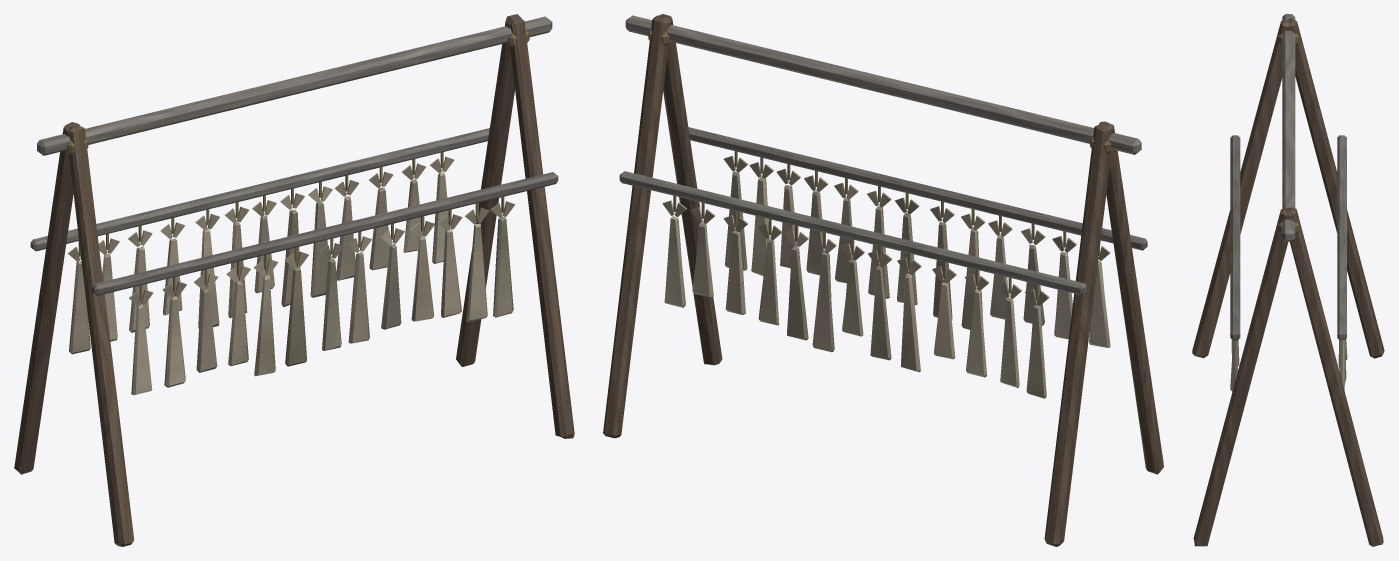
File: kit_drying_rack.glb
3 renders of one model, left to right at view 1: azimuth 30°, elevation 25°; view 2: azimuth 150°, elevation 25°; view 3: azimuth 270°, elevation 25°, orthographic. The views are drawn at different scales.
Parts seen in each view (by area): view 1: kit_drying_rack-convcol; view 2: kit_drying_rack-convcol; view 3: kit_drying_rack-convcol.
Boxes of the visible parts, x1,y1,x2,y2 form: kit_drying_rack-convcol: (14,14,574,546); kit_drying_rack-convcol: (603,14,1163,546); kit_drying_rack-convcol: (1192,14,1384,546).
Size of the model in its own units: 3.2 by 2.3 by 1.19.
1 material, 1 textured.
